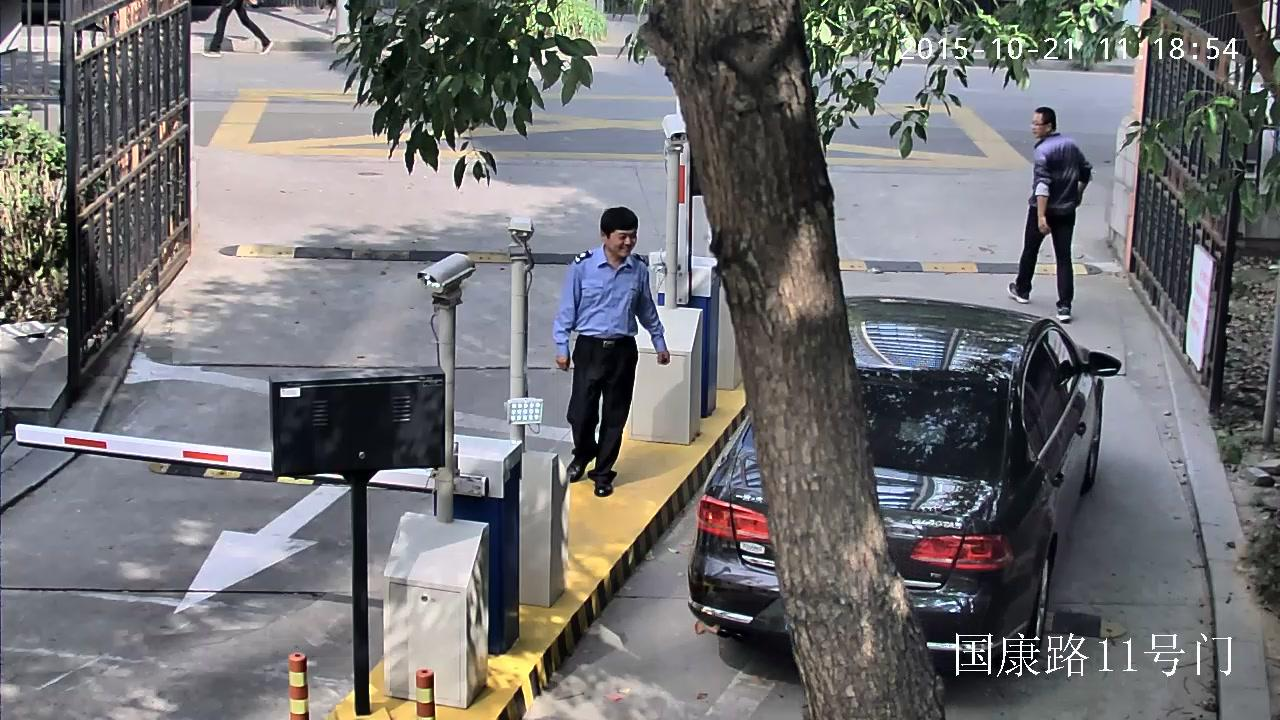face: (606, 229, 637, 255), (1031, 112, 1047, 139)
